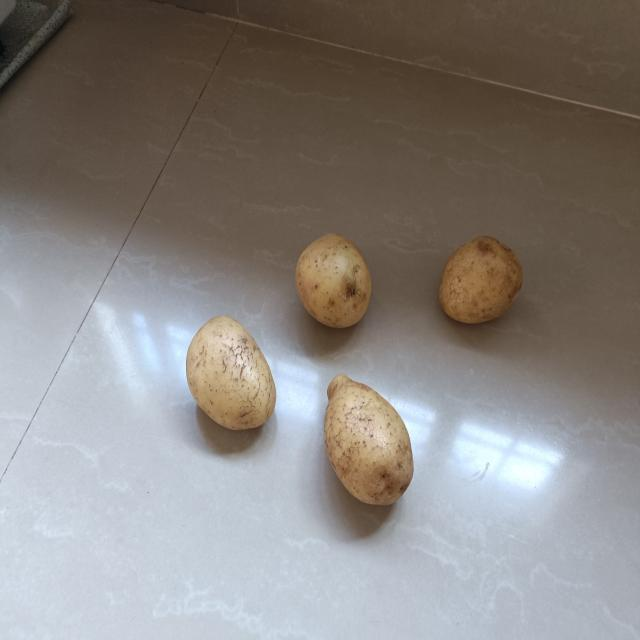potato: (323, 370, 415, 513), (185, 314, 282, 433), (290, 224, 376, 337), (434, 233, 527, 328)
